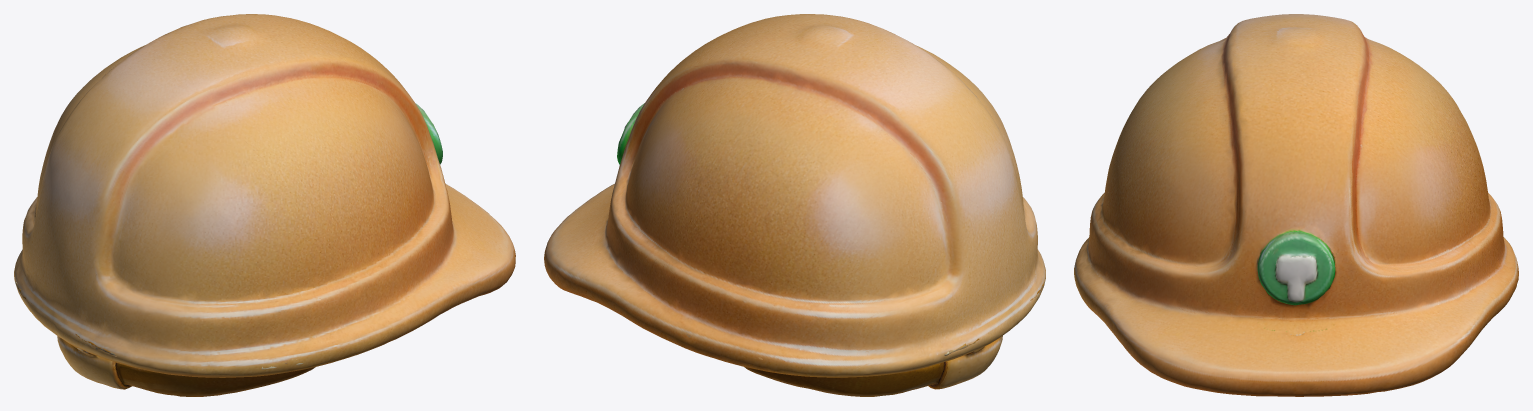
File: Item_Hat_SafetyHelmet.glb
3 renders of one model, left to right at view 1: azimuth 30°, elevation 25°; view 2: azimuth 150°, elevation 25°; view 3: azimuth 270°, elevation 25°, orthographic.
Parts seen in each view (by area): view 1: input; view 2: input; view 3: input.
Boxes of the visible parts, box(x1,y1,x2,y2) form: input: box(14, 14, 515, 396); input: box(544, 14, 1045, 396); input: box(1074, 14, 1518, 396).
Size of the model in its own units: 1 by 0.6854 by 0.9074.
1 material, 1 textured.
